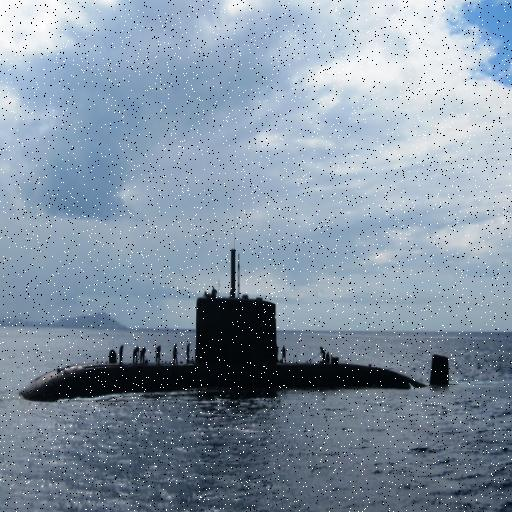submarine: (20, 250, 451, 401)
